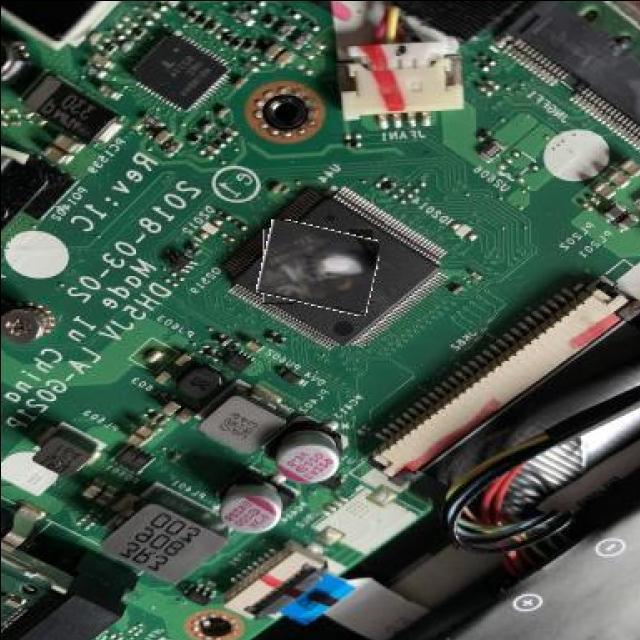Burn: (258, 222, 376, 308)
